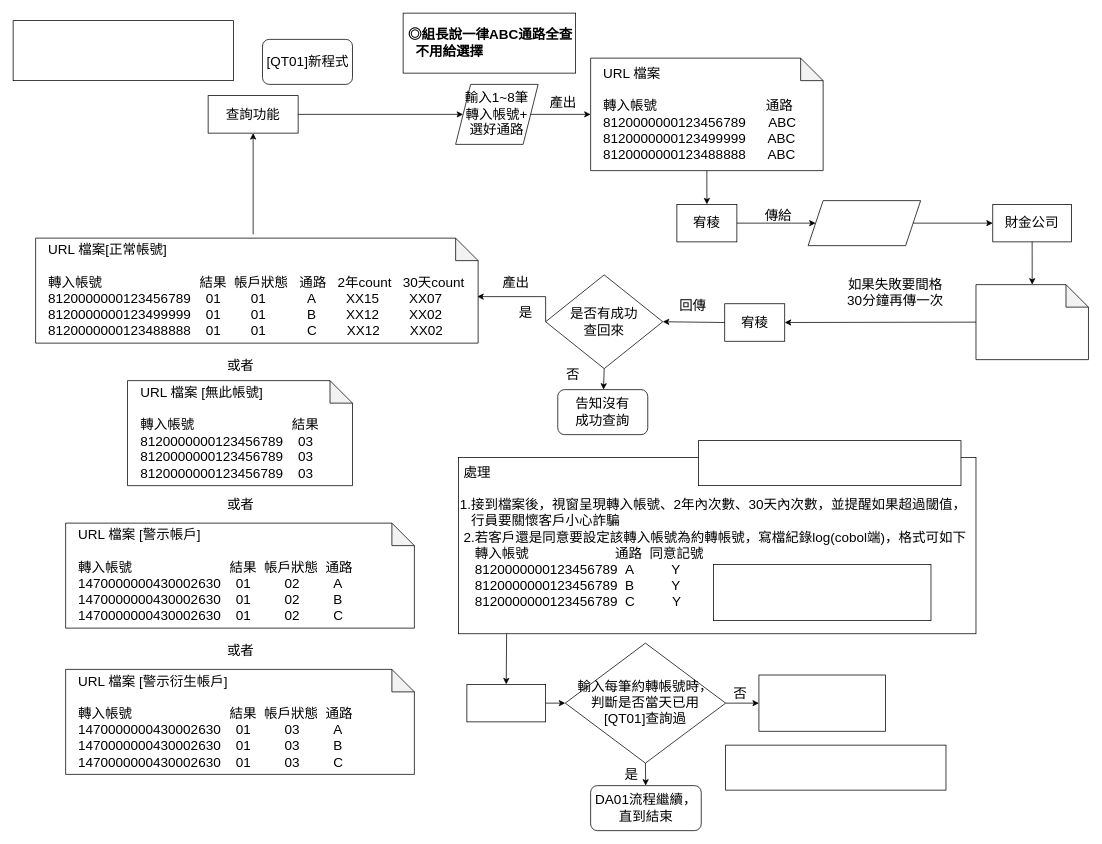
The diagram is 1102 pixels wide and 844 high, and some of its shapes have lost their labels. The centre of each missing label's shape, as x and y in pixels:
"API到財金" belongs at (864,223).
"DA01" belongs at (506,703).
"←這個好像可以省，da01程式 直接撈qt01那份log就可以判斷" belongs at (822,592).
"◎[ DA01] 前面要先有一個 [QT01] 查詢跨行約定帳號風險閾值， 業務部能改流程嗎？" belongs at (122,50).
"◎問 業務部如果[QT01]一直得不到 查詢結果，要怎樣的流程？" belongs at (835,767).
"◎請 業務部&數金部討論並決定風險閾值" belongs at (829,463).
"繼續DA01？ 還是甚麼流程？" belongs at (822,702).
"財金公司 回傳的API內容" belongs at (1031,322).
